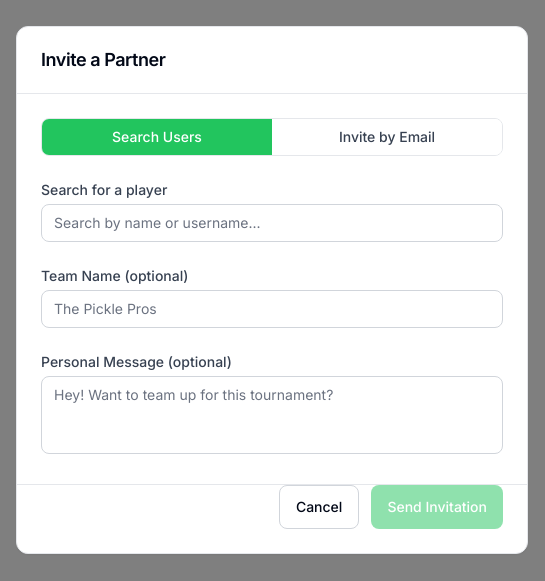
it: PartnerInviteModal › Mode Tabs › switches back to search mode from email mode
This screenshot has width=545, height=581.
Click the button "Invite by Email": click(387, 137) [272, 119, 502, 155]
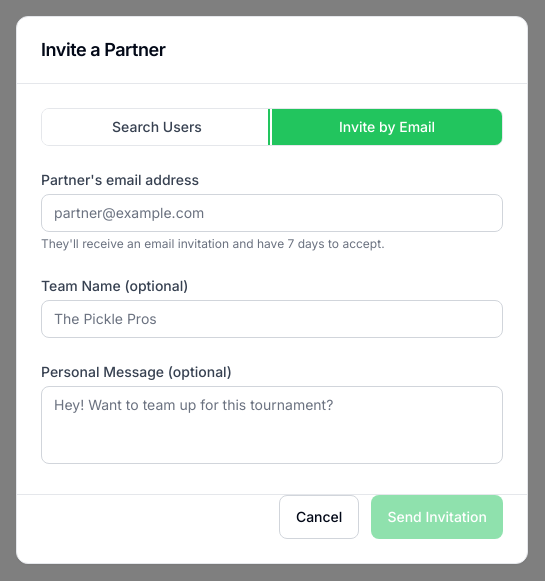
Click the button "Search Users": click(157, 127) [42, 109, 272, 145]
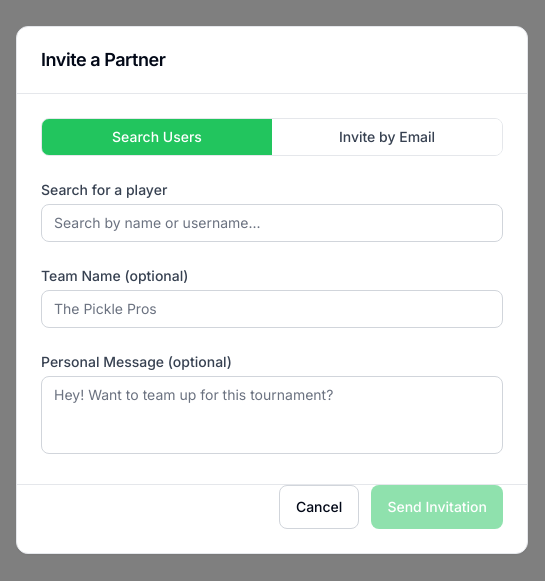
Result: the field labelled "Search for a player" is shown at [41, 204, 503, 242]
